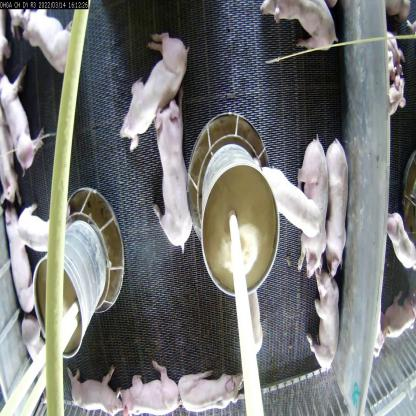Pig: (112, 28, 189, 156), (151, 94, 195, 256), (255, 148, 319, 245), (290, 142, 330, 275), (10, 0, 73, 82), (179, 352, 256, 415), (2, 66, 40, 184), (252, 0, 336, 48), (301, 281, 342, 376), (121, 363, 186, 416), (0, 204, 29, 314), (324, 140, 350, 255), (22, 198, 65, 266), (77, 371, 124, 415)
